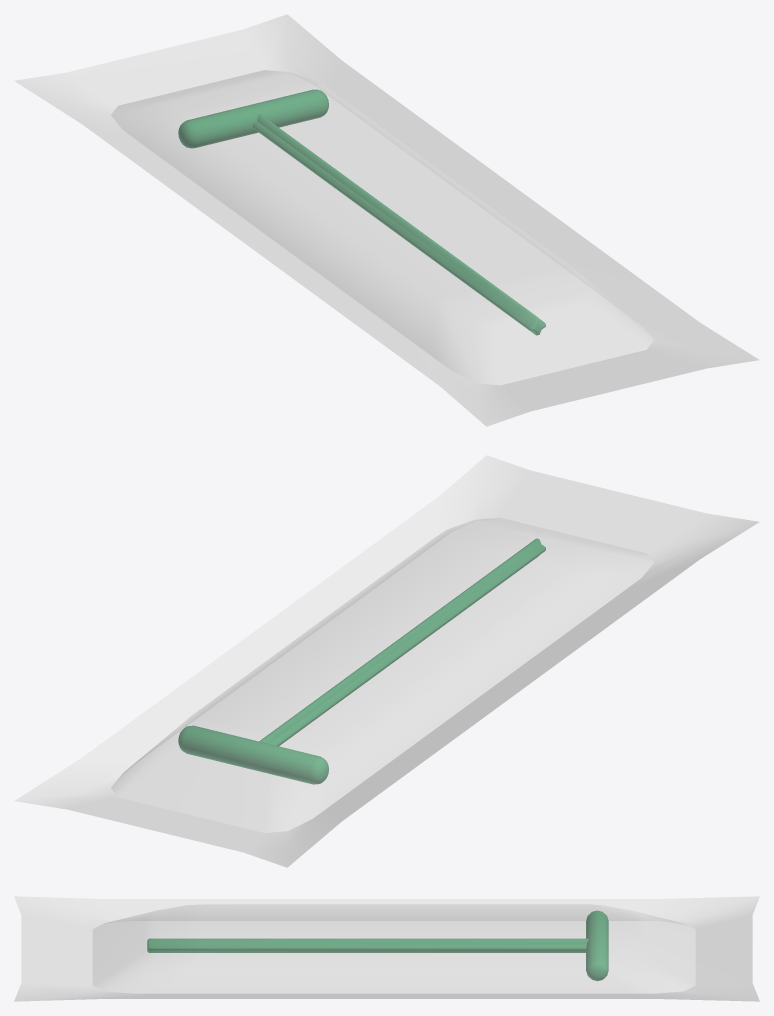
File: shpatel.fbx
The picture shows the model from 3 angles, top to bottom: view 1: azimuth 30°, elevation 25°; view 2: azimuth 150°, elevation 25°; view 3: azimuth 270°, elevation 25°; orthographic projection. The views are drawn at different scales.
Parts seen in each view (by area): view 1: shpatel_pack, shpatel; view 2: shpatel_pack, shpatel; view 3: shpatel_pack, shpatel.
Boxes of the visible parts, <box> form: shpatel_pack: <box>14,14,759,426</box>; shpatel: <box>178,89,545,335</box>; shpatel_pack: <box>14,455,759,867</box>; shpatel: <box>178,538,545,784</box>; shpatel_pack: <box>14,896,759,1001</box>; shpatel: <box>147,910,608,981</box>.
Size of the model in its own units: 6.68 by 0.8093 by 20.
